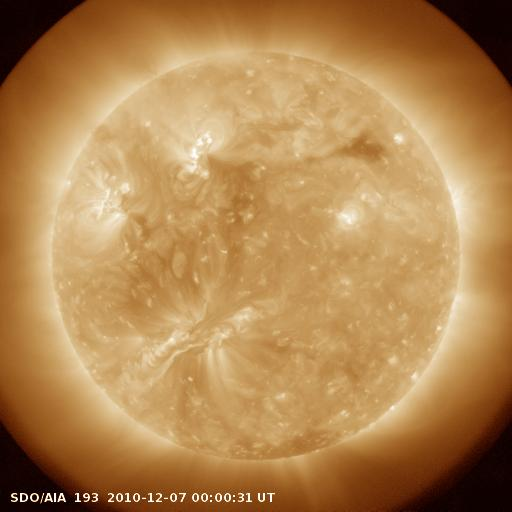coronal_hole: (225, 430, 339, 457), (338, 129, 386, 164)
